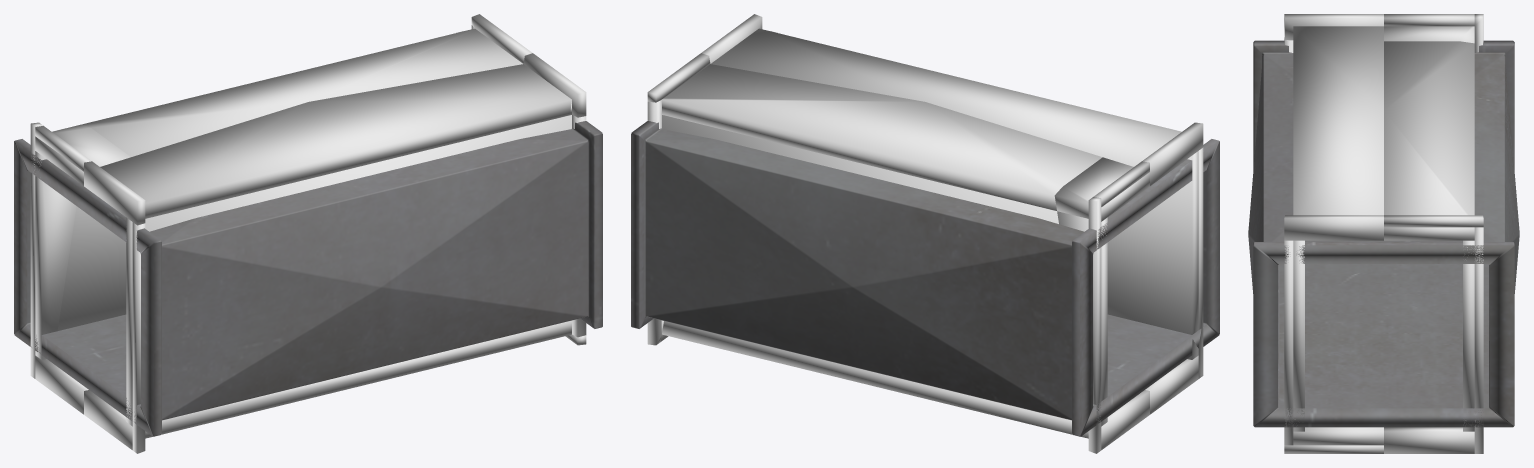
Rendered from SM_Vent_Half.fbx.
The picture shows the model from 3 angles, left to right: view 1: azimuth 30°, elevation 25°; view 2: azimuth 150°, elevation 25°; view 3: azimuth 270°, elevation 25°; orthographic projection. The views are drawn at different scales.
Visible parts, largest first — view 1: SM_Vent_Half, SM_Vent_Half_ConvexHulls; view 2: SM_Vent_Half, SM_Vent_Half_ConvexHulls; view 3: SM_Vent_Half, SM_Vent_Half_ConvexHulls.
Boxes of the visible parts, left/top/right/bottom form: SM_Vent_Half: left=14, top=31, right=602, bottom=436; SM_Vent_Half_ConvexHulls: left=30, top=14, right=586, bottom=453; SM_Vent_Half: left=631, top=31, right=1219, bottom=436; SM_Vent_Half_ConvexHulls: left=647, top=14, right=1203, bottom=453; SM_Vent_Half: left=1248, top=40, right=1519, bottom=427; SM_Vent_Half_ConvexHulls: left=1284, top=14, right=1483, bottom=453.
Size of the model in its own units: 2 by 1.12 by 1.12.
